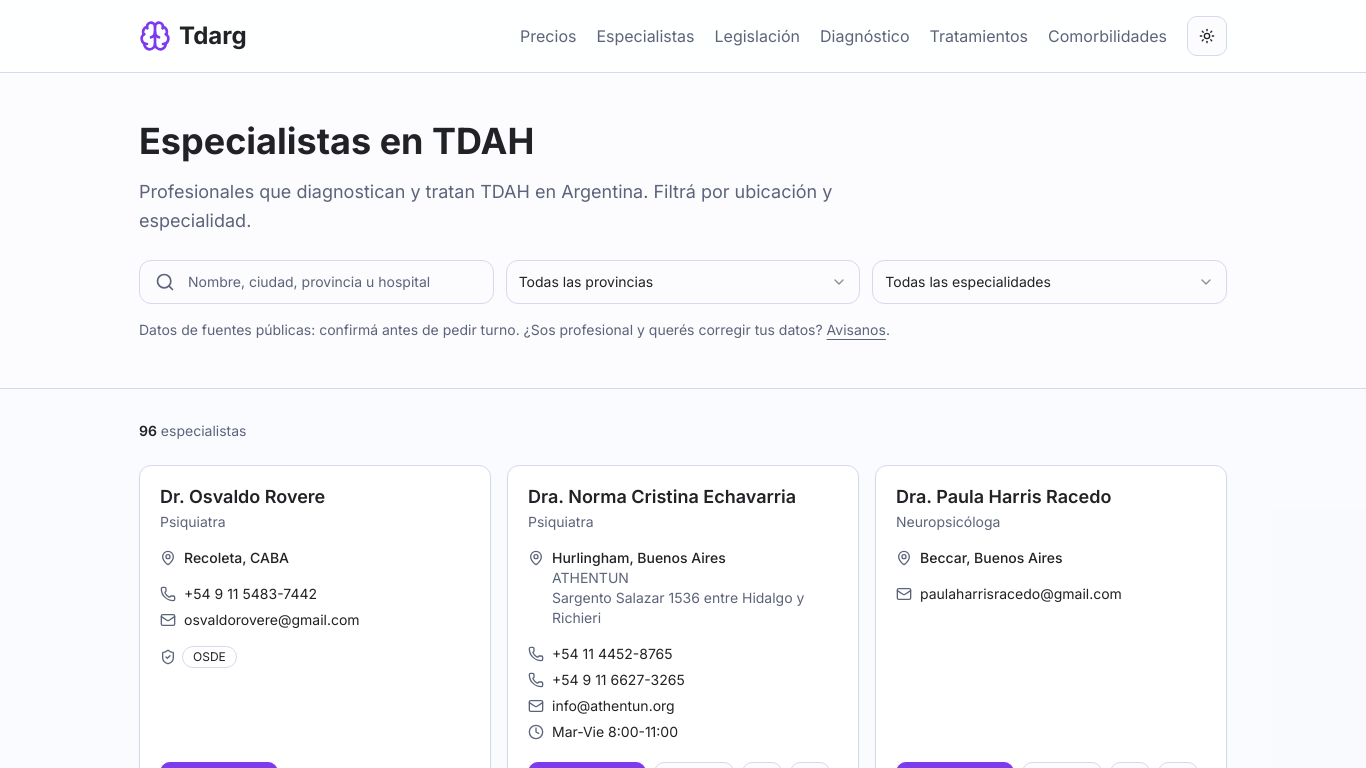
Test: SpecialistsPage › filters by specialty and clears filters when nothing matches
Click the dropdown labelled "especialidad" at (1050, 282), box [872,260,1227,304]
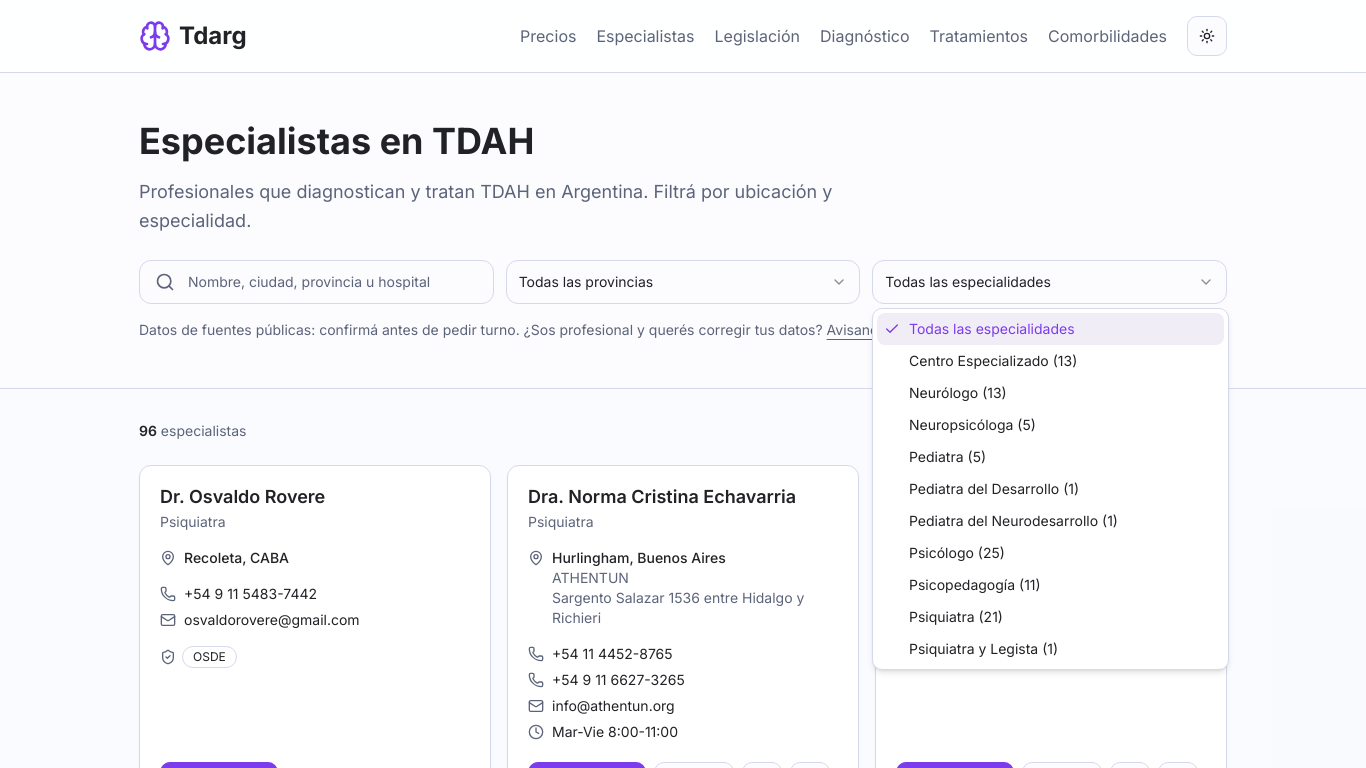
Click the option "Pediatra (5)" at (948, 456), box [909,448,986,465]
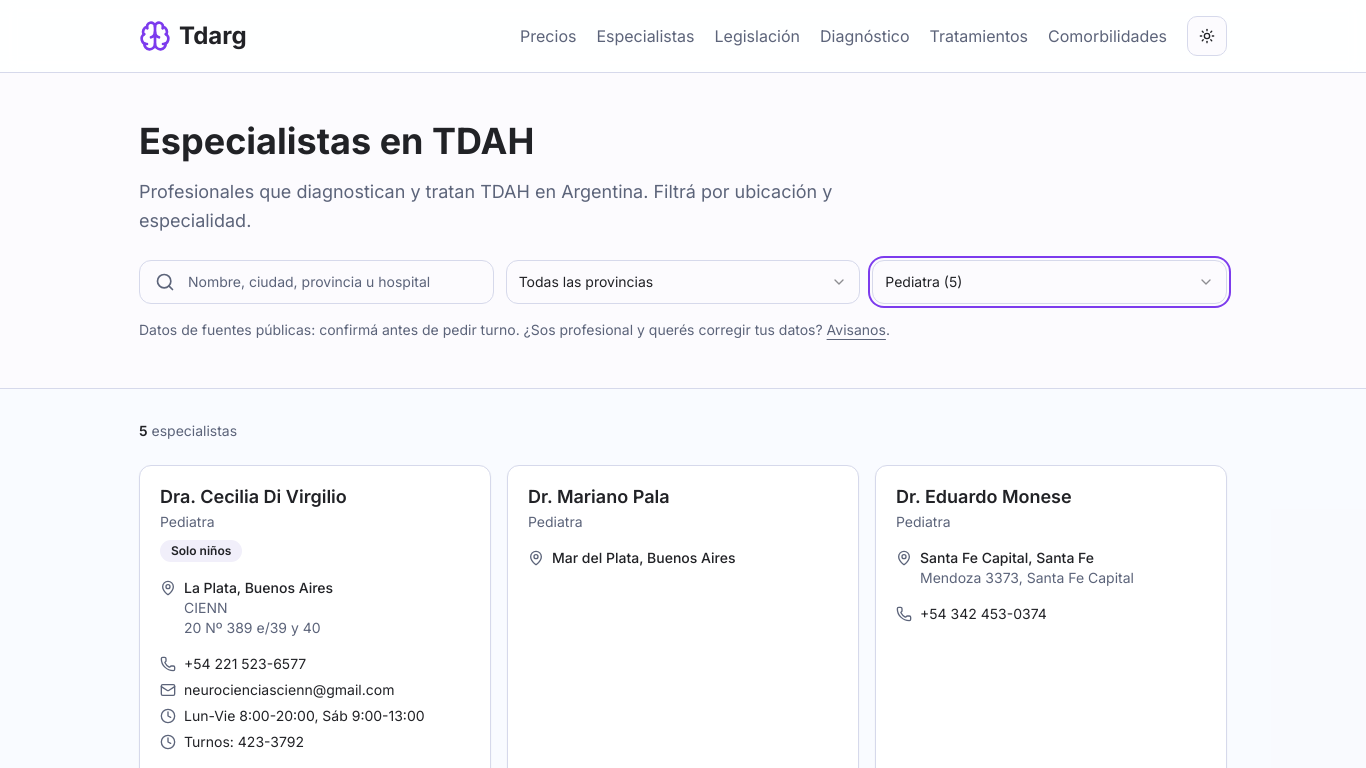
Type "zzzz" into the search field at (316, 282), box [139,260,494,304]
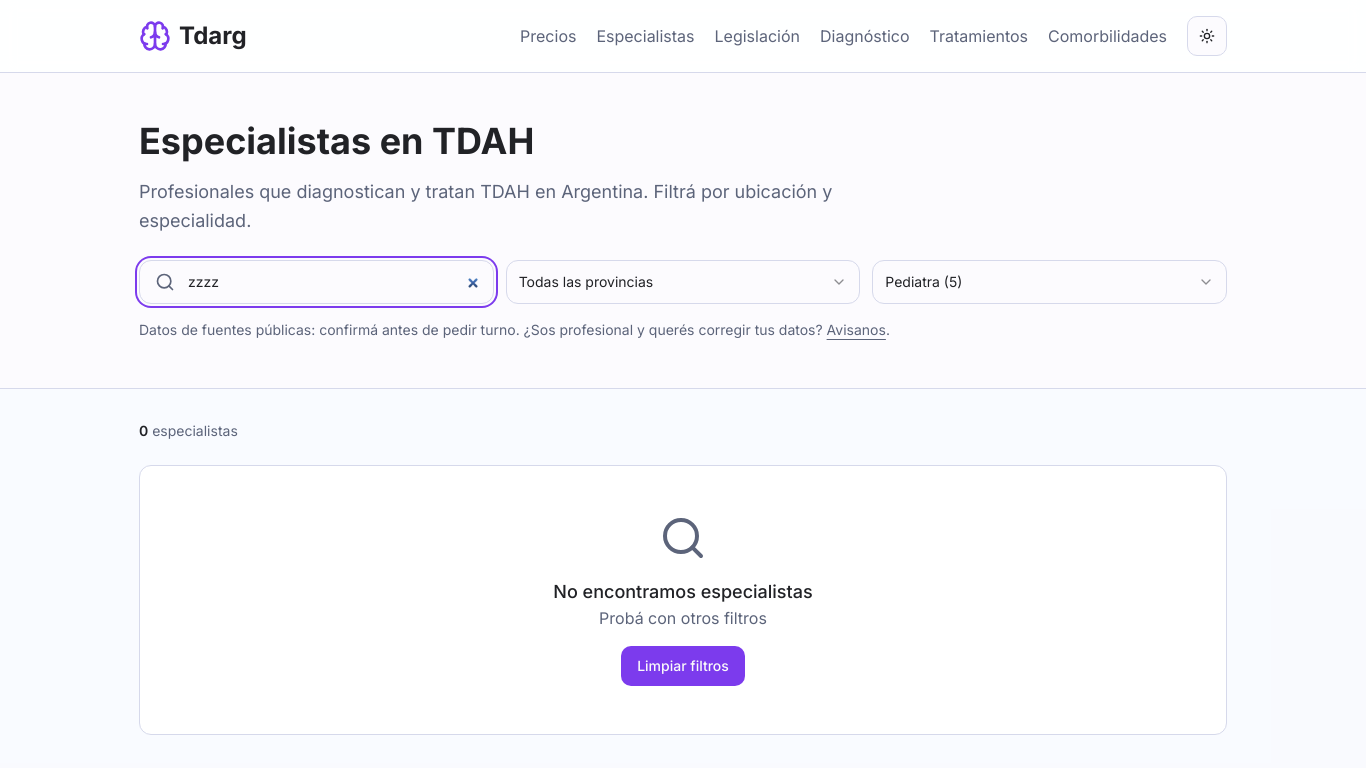
expect the heading "No encontramos especialistas" is shown: met, box [553,580,813,602]
Click the button "Limpiar filtros" at (683, 666), box [621,646,745,686]
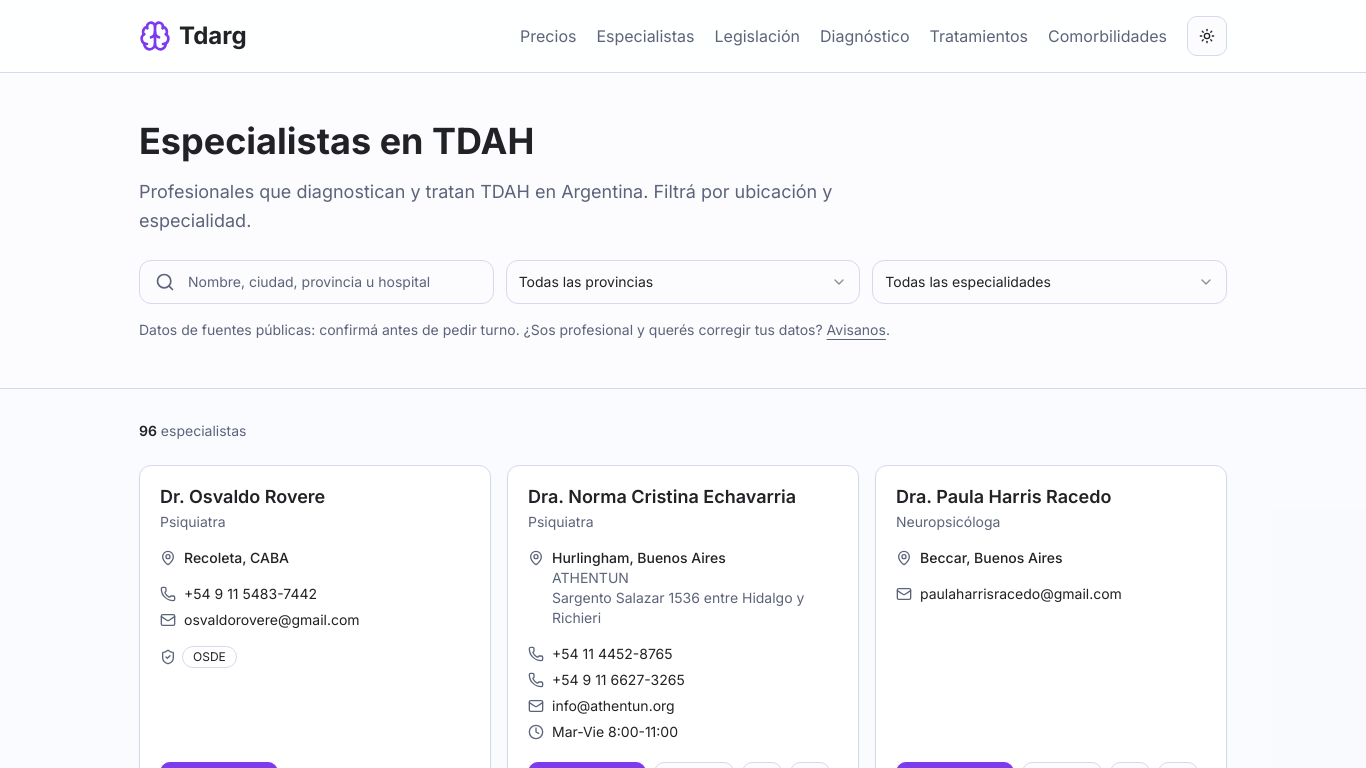
expect the search field is empty: met, box [139,260,494,304]
